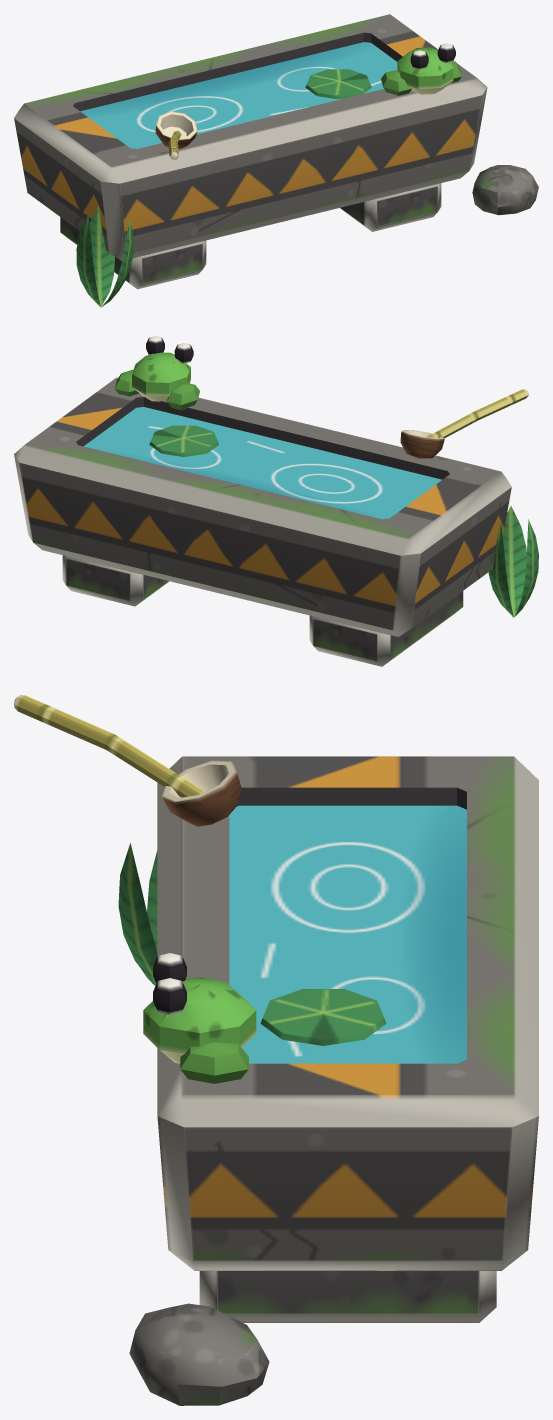
The model's file is water_trough.glb.
The picture shows the model from 3 angles, top to bottom: view 1: azimuth 30°, elevation 25°; view 2: azimuth 150°, elevation 25°; view 3: azimuth 270°, elevation 25°; orthographic projection. The views are drawn at different scales.
Visible parts, largest first — view 1: water_trough; view 2: water_trough; view 3: water_trough.
Part boxes in pixels (x1,y1,x2,y2): water_trough: [14, 14, 538, 307]; water_trough: [14, 336, 538, 666]; water_trough: [14, 695, 538, 1405].
Bounding box in the file's own units: 2.34 × 0.8855 × 1.22.
1 material, 1 textured.
